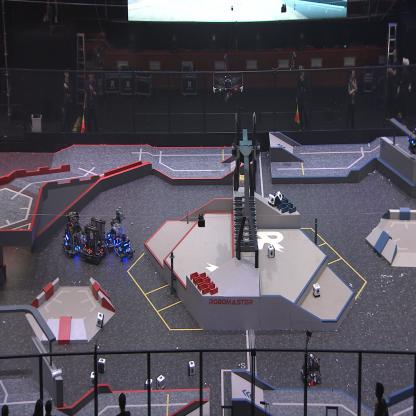car: (79, 217, 108, 266), (102, 208, 128, 254), (61, 209, 86, 256), (232, 172, 256, 210), (300, 353, 321, 386), (112, 232, 134, 263)
